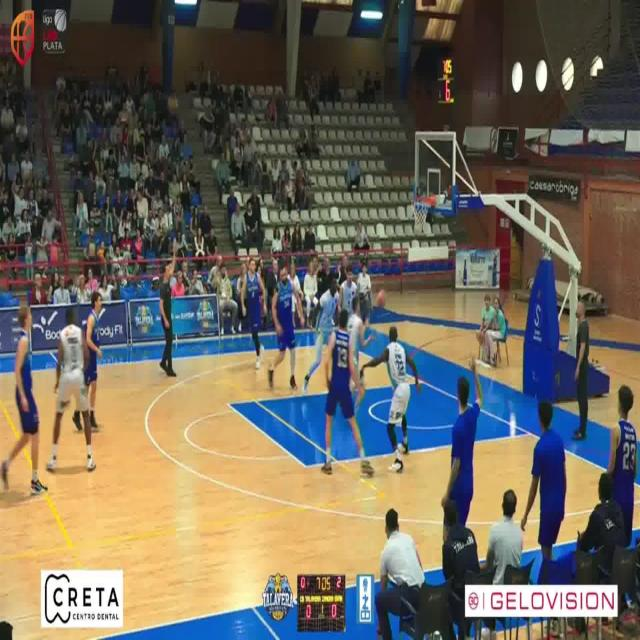ball: (377, 288, 386, 308)
basket: (414, 188, 438, 235)
bench person: (522, 398, 568, 560), (443, 357, 483, 525), (609, 384, 639, 545)
player: (321, 309, 374, 476), (361, 325, 421, 472), (0, 305, 45, 495), (45, 306, 95, 471), (268, 258, 305, 389), (303, 278, 340, 393), (241, 255, 267, 369), (84, 290, 101, 432), (347, 296, 373, 372), (340, 265, 357, 315)
referee: (159, 244, 176, 377), (574, 301, 590, 440)
